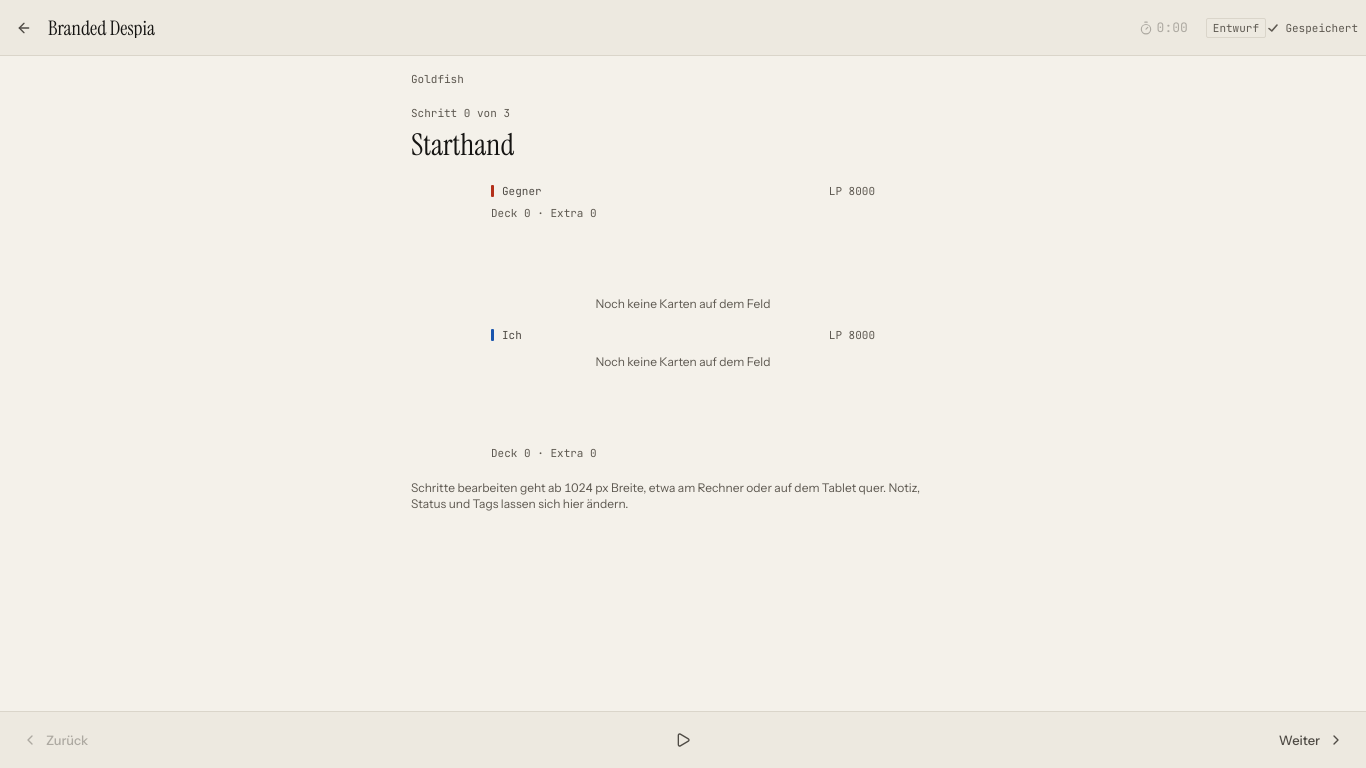
it: ComboReader · Übungsmodus › lässt die Zeit laufen, sobald jemand einen Schritt weiter geht
Click the button "Weiter": {"x": 1299, "y": 740} [908,712,1358,767]
Wait 3000 ms
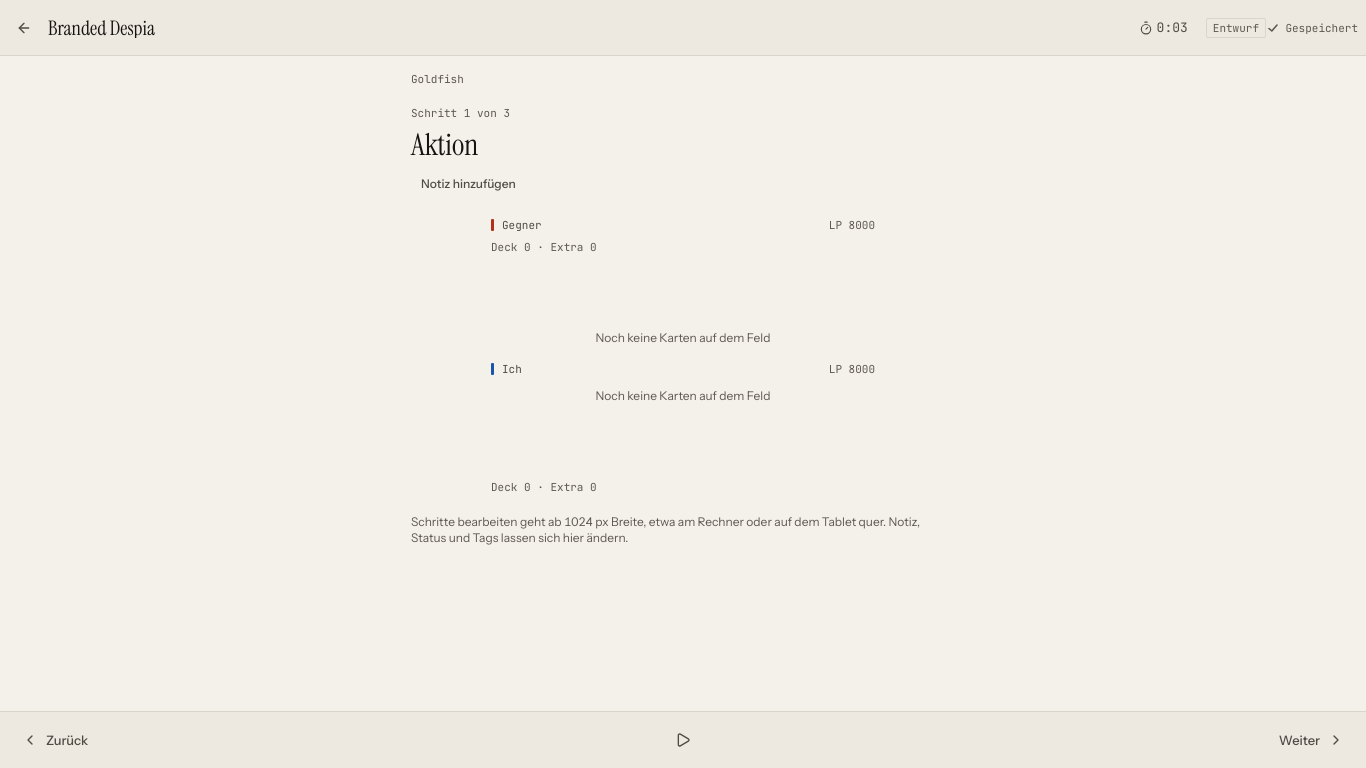
expect the button named "Uhr anhalten" is shown: met, box [1133,14,1194,40]
